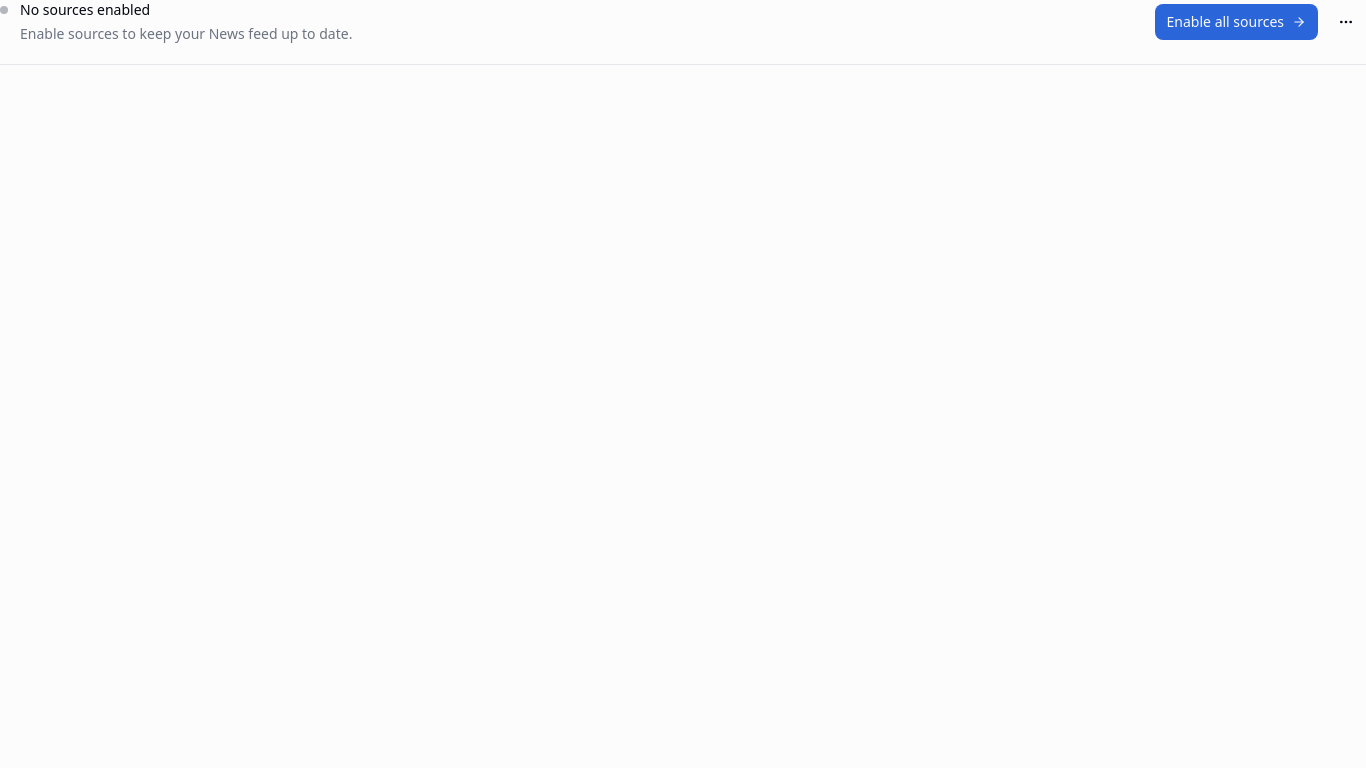
it: News source actions › retries an uncertain submission with the same operation
Later steps or results of the test are not shown.
Click the button "Enable all sources": (1236, 22) [1155,4,1318,40]
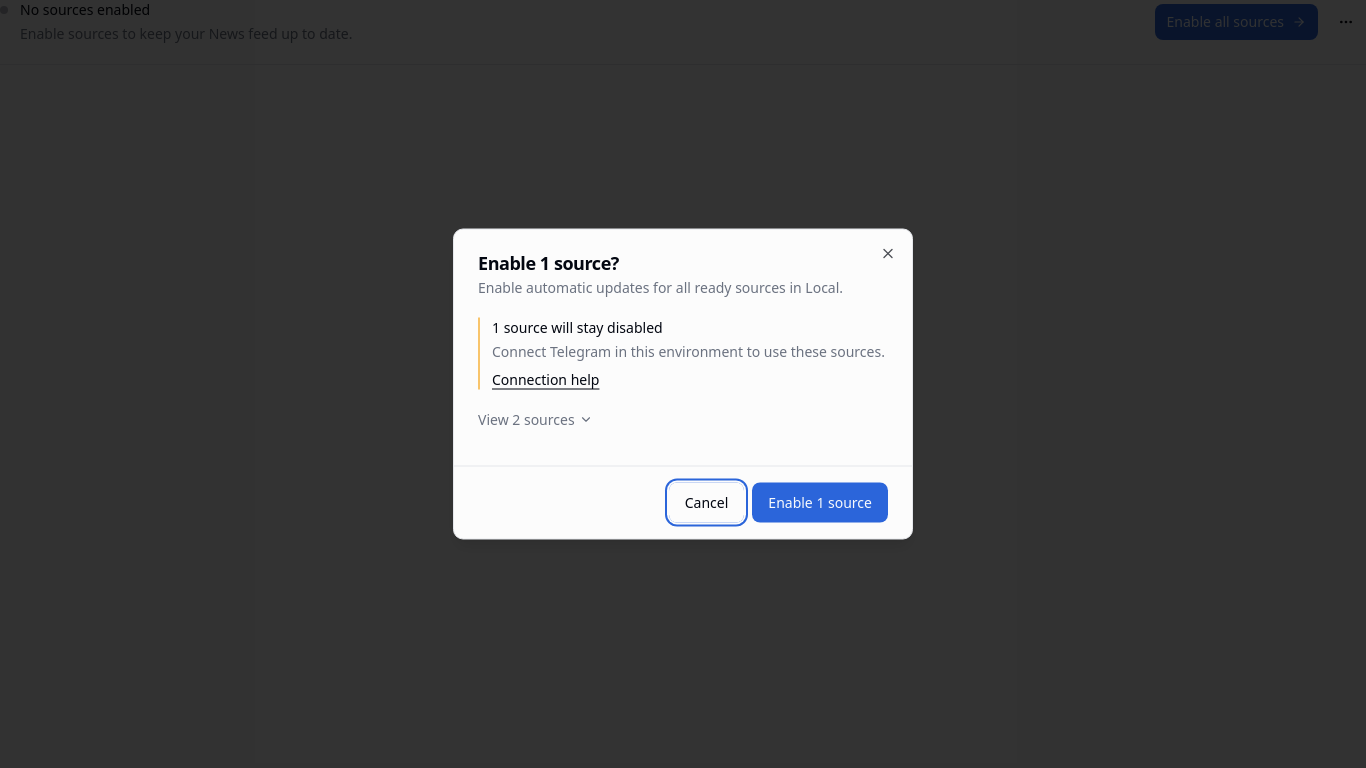
Click the button "Enable 1 source": (820, 502) [752,482,888,522]
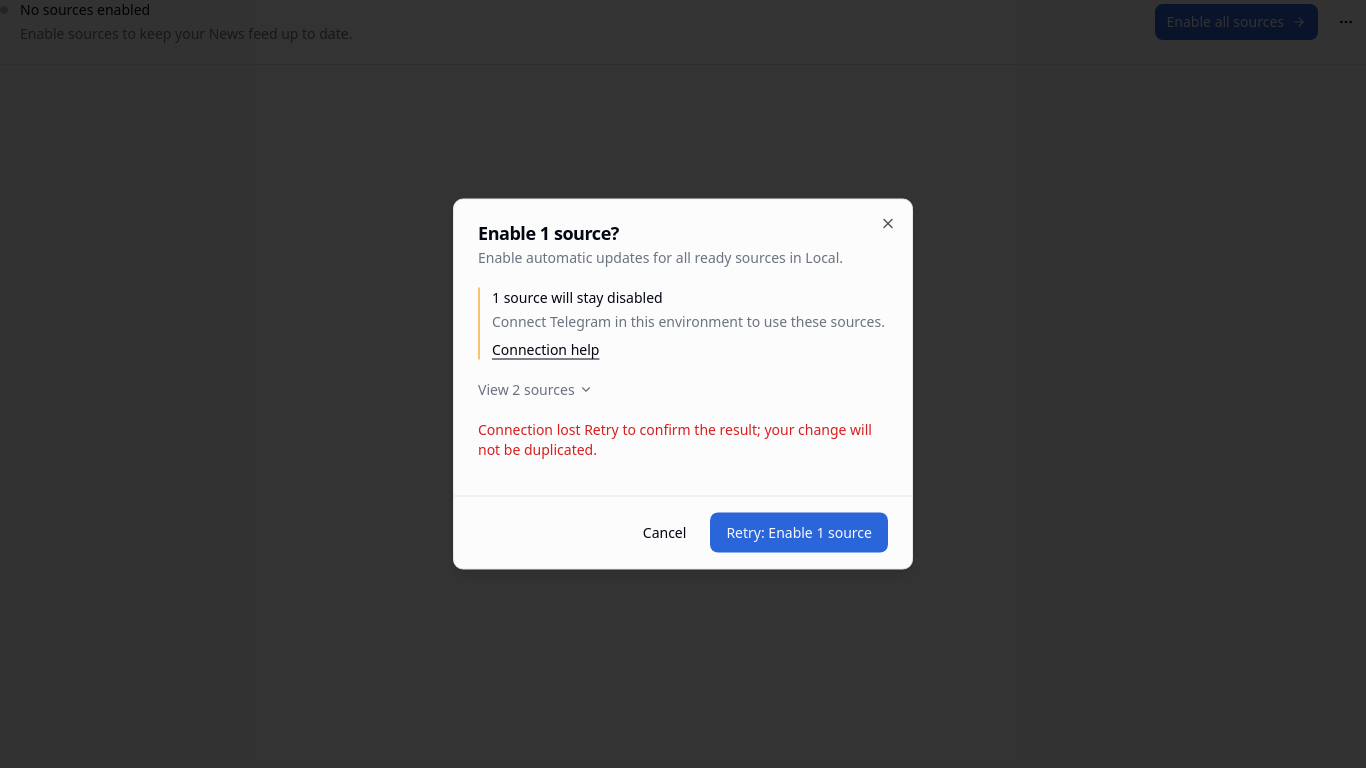
Now the message shows "Connection lost", box [478,420,580,438]
